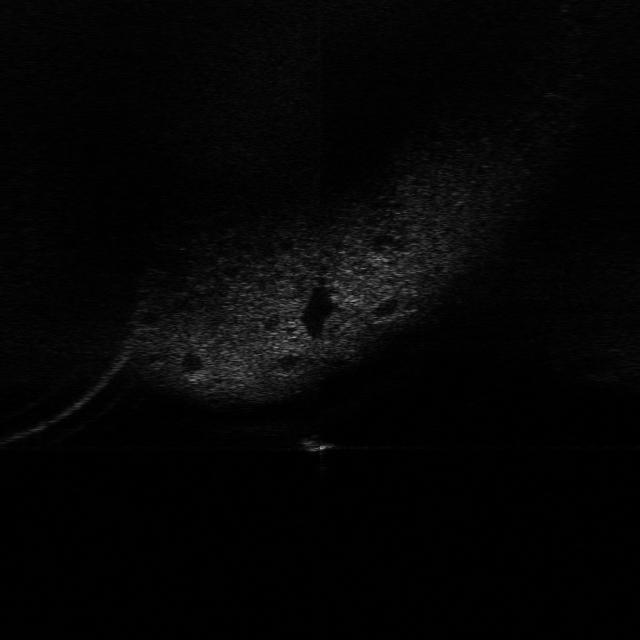cube: (296, 430, 342, 456)
